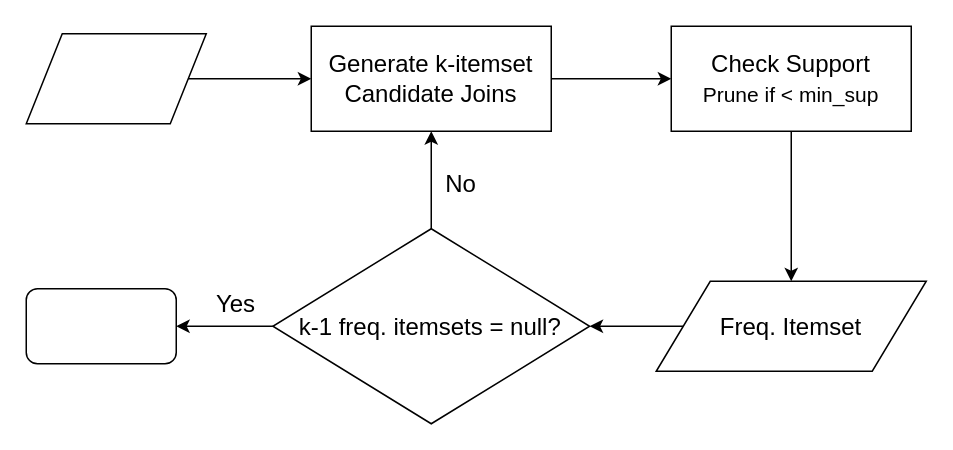
Some shapes in this 953 by 450 pixel diagram are drawn without their labels. The shapes that lost their labels are listed below. From the top down, each one's centre as x and y in pixels, then its label:
(115,78): Itemset
(100,325): Stop
